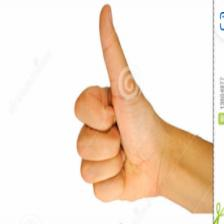five: (76, 4, 166, 207)
